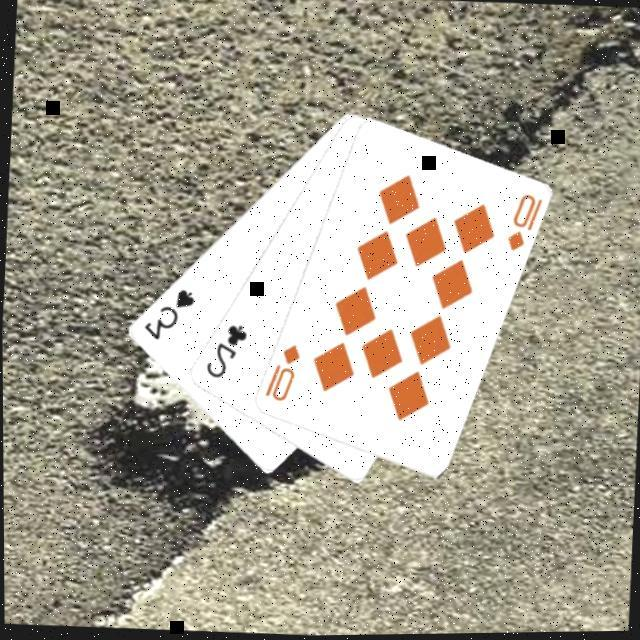10D: (258, 341, 301, 407), (500, 192, 543, 258)
2C: (198, 321, 248, 384)
3S: (137, 285, 196, 347)
